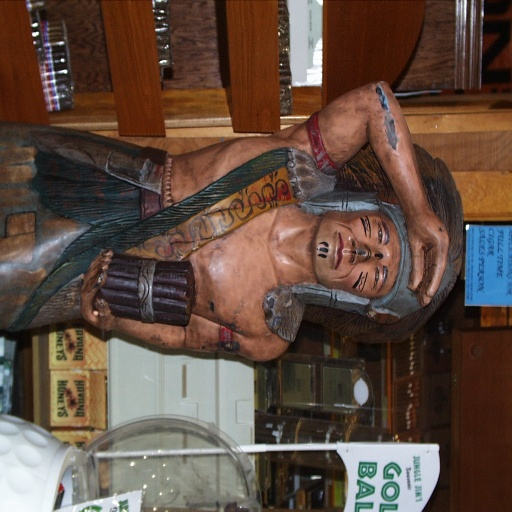hand: (407, 210, 448, 306), (78, 245, 118, 335)
